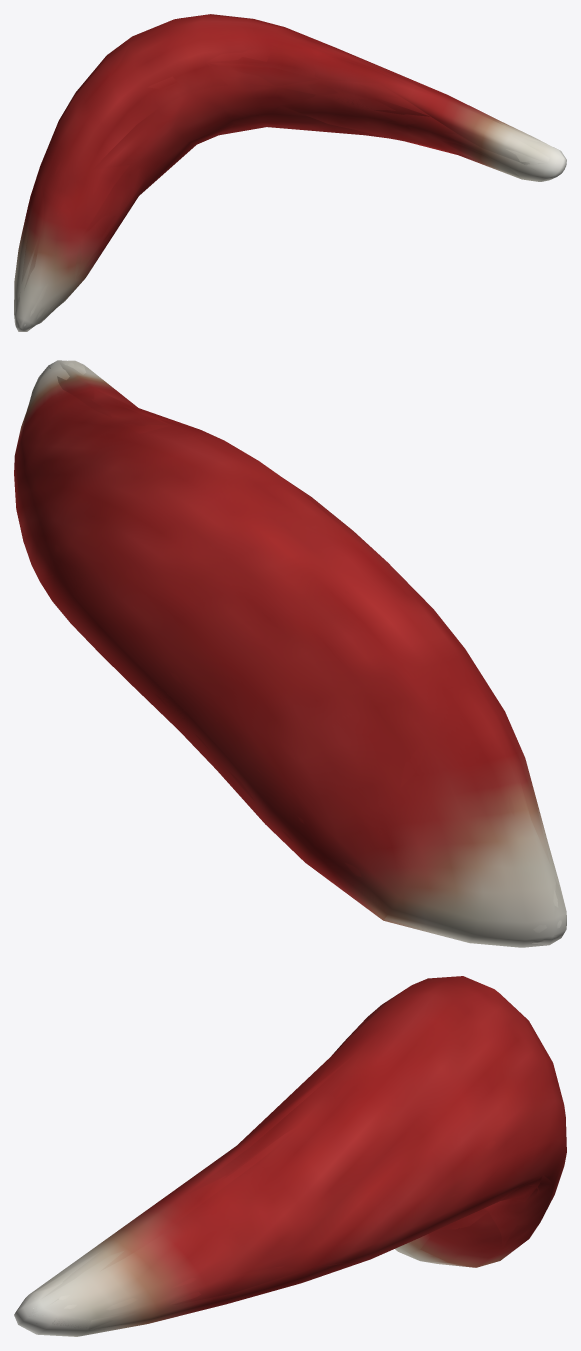
File: L Obturatorius Externus.fbx
3 views of the same model, one above another, from view 1: azimuth 30°, elevation 25°; view 2: azimuth 150°, elevation 25°; view 3: azimuth 270°, elevation 25° (orthographic). The views are drawn at different scales.
Visible parts, largest first — view 1: L Obturatorius Externus, L Obturatorius Externus low, L Obturatorius Externus high; view 2: L Obturatorius Externus, L Obturatorius Externus low, L Obturatorius Externus high; view 3: L Obturatorius Externus, L Obturatorius Externus low, L Obturatorius Externus high.
Boxes of the visible parts, left/top/right/bottom form: L Obturatorius Externus: left=14, top=14, right=566, bottom=331; L Obturatorius Externus low: left=14, top=24, right=562, bottom=331; L Obturatorius Externus high: left=15, top=33, right=557, bottom=329; L Obturatorius Externus: left=15, top=360, right=566, bottom=947; L Obturatorius Externus low: left=14, top=360, right=566, bottom=945; L Obturatorius Externus high: left=16, top=360, right=561, bottom=942; L Obturatorius Externus: left=14, top=976, right=566, bottom=1336; L Obturatorius Externus low: left=29, top=977, right=565, bottom=1329; L Obturatorius Externus high: left=21, top=980, right=565, bottom=1327.
Bounding box in the file's own units: 2.45 × 1.39 × 1.79.
1 material, 1 textured.
